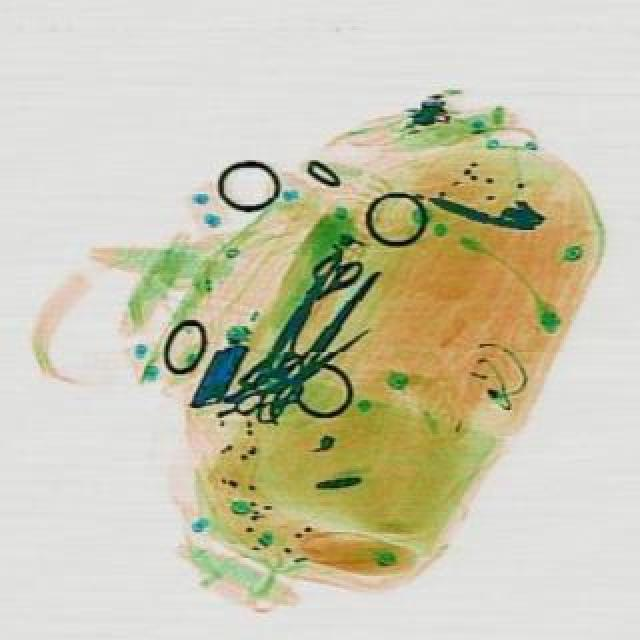pliers: (242, 254, 416, 452), (268, 242, 364, 350)
